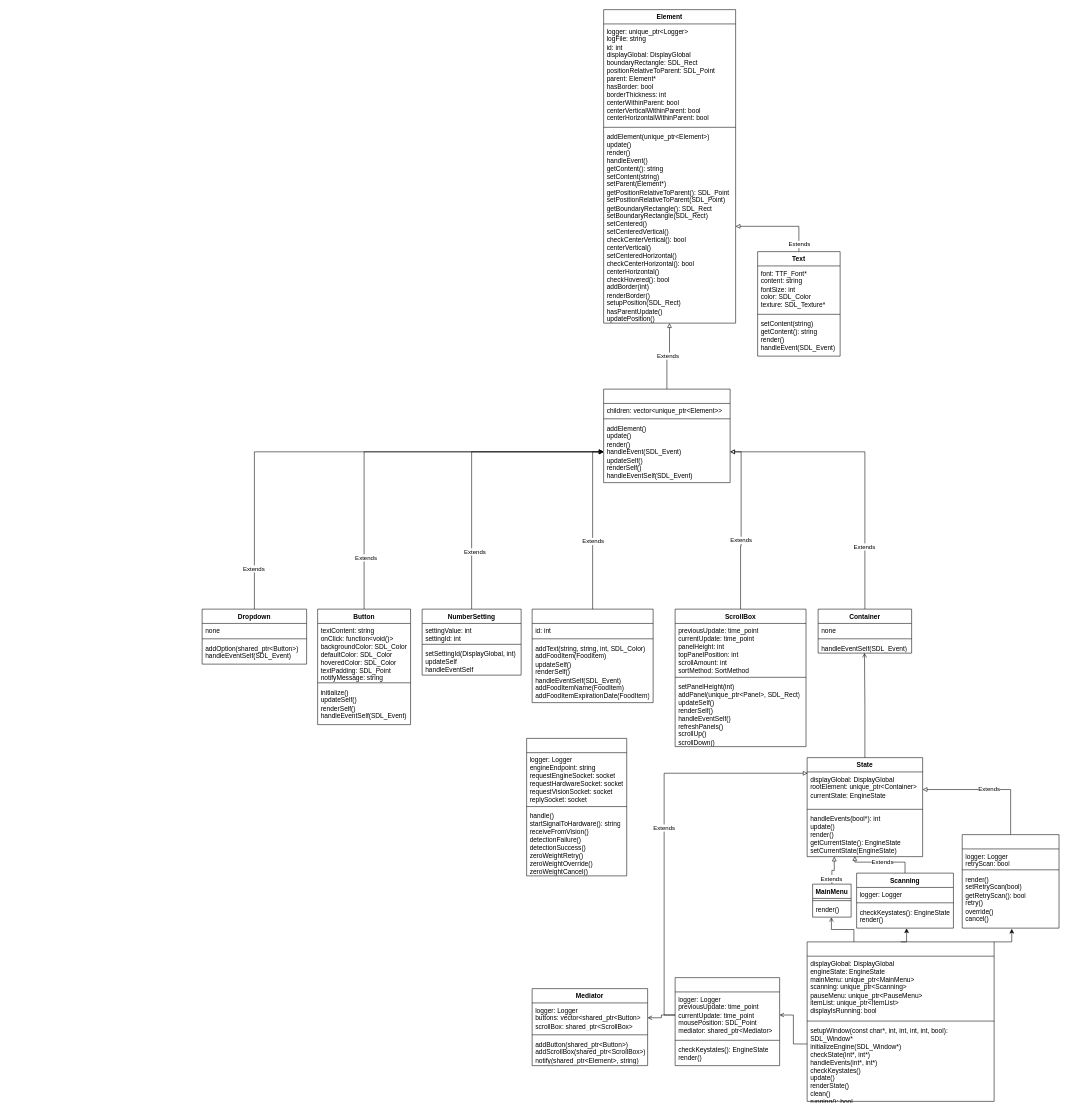
Some shapes in this 1069 by 1115 pixel diagram are drawn without their labels. Here are the shapes that lost their labels. From the top down, the box of each, then its label:
(603, 389, 730, 483): CompositeElement
(532, 609, 653, 703): Panel
(526, 738, 627, 876): DisplayHandler
(962, 834, 1059, 928): ZeroWeight
(675, 977, 780, 1066): ItemList
(807, 941, 994, 1101): DisplayEngine
